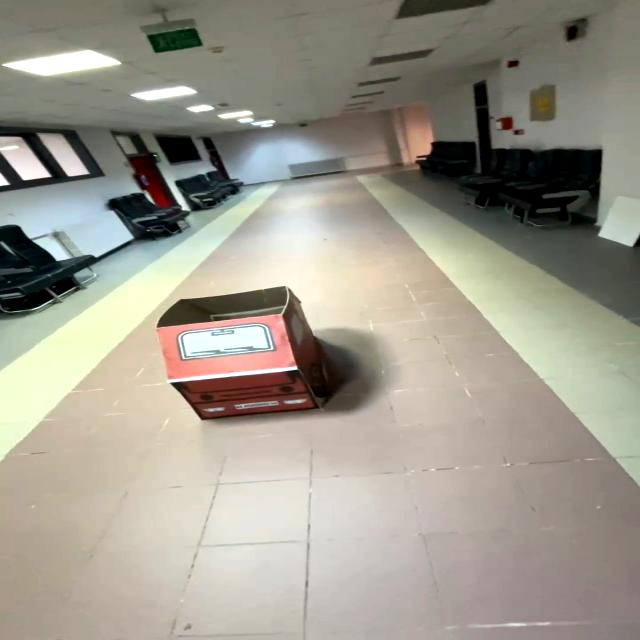red_car: (148, 274, 353, 437)
